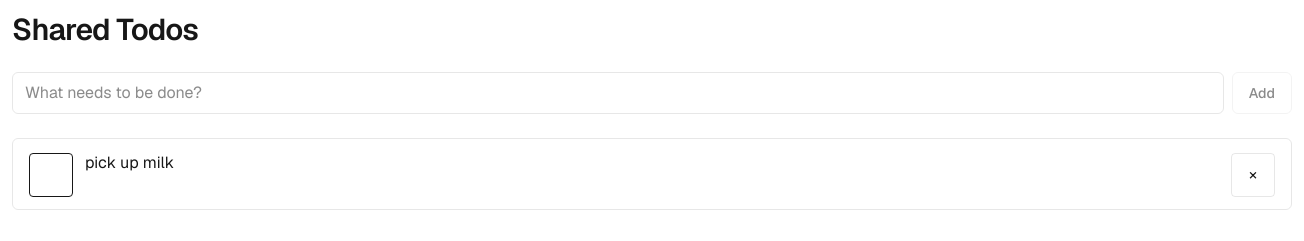
it: <TodoApp /> delete journey › happy path: GET → click delete → optimistic removal → DELETE 204 → row stays gone
The image size is (1304, 241).
Step 1. Click the button named "delete: pick up milk" → (1253, 175), box [1231, 153, 1275, 197]
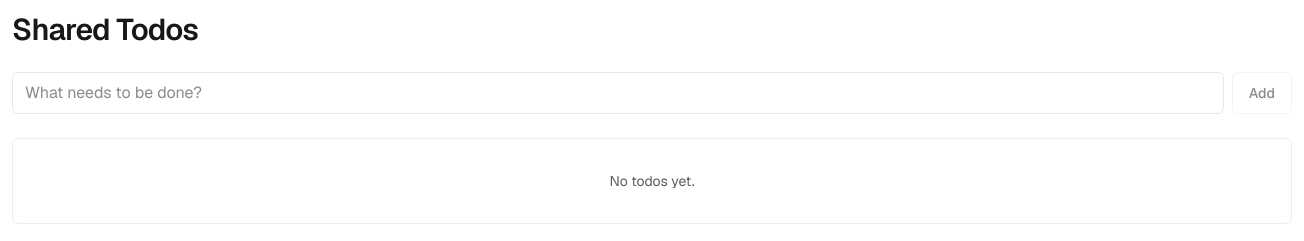
Result: the text "No todos yet." is shown at [12, 138, 1292, 224]
